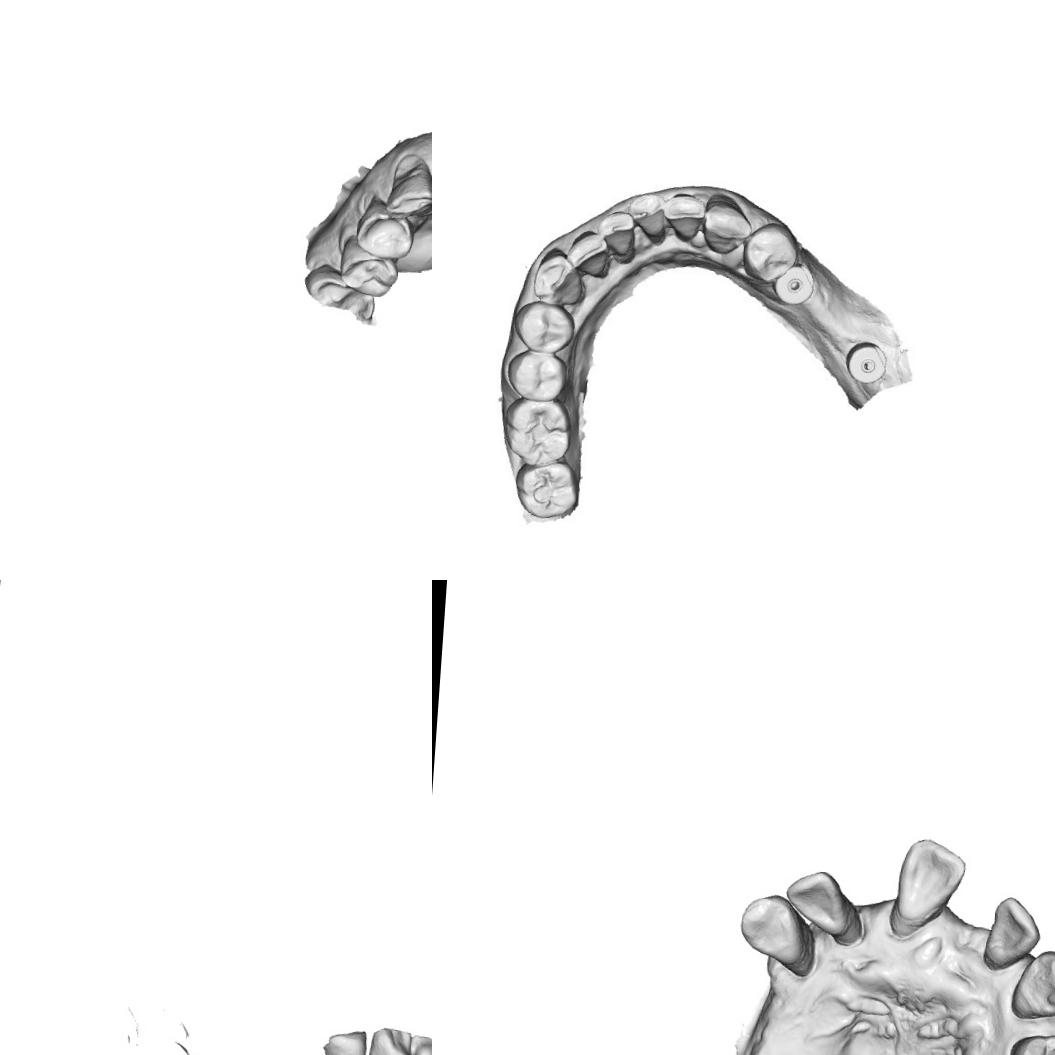canine: (735, 890, 810, 969), (1007, 945, 1055, 1023), (700, 192, 753, 256), (531, 246, 588, 305), (383, 160, 432, 222)
implant: (769, 260, 816, 306), (843, 339, 888, 385)
incisor: (890, 835, 968, 926), (780, 866, 852, 940), (980, 893, 1044, 972), (625, 190, 669, 245), (594, 209, 638, 264), (564, 228, 612, 278), (660, 192, 706, 242)
molar: (501, 395, 574, 468), (511, 456, 581, 520)
premolar: (739, 220, 799, 286), (512, 298, 576, 355), (505, 348, 569, 403), (338, 248, 401, 300), (353, 208, 413, 262), (1006, 1027, 1055, 1055)
